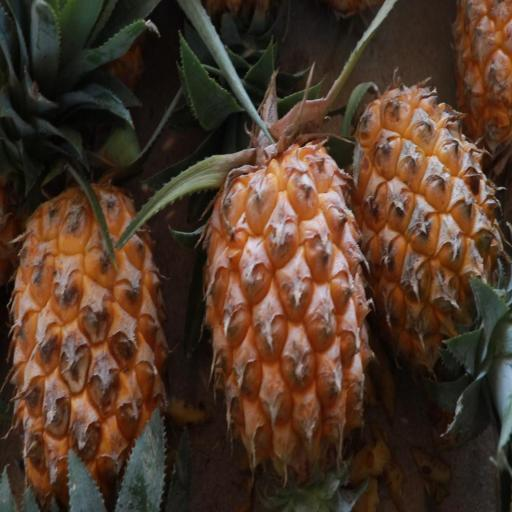Pineapple - v8 v1: (200, 115, 374, 512), (4, 122, 173, 512), (351, 73, 507, 396)
